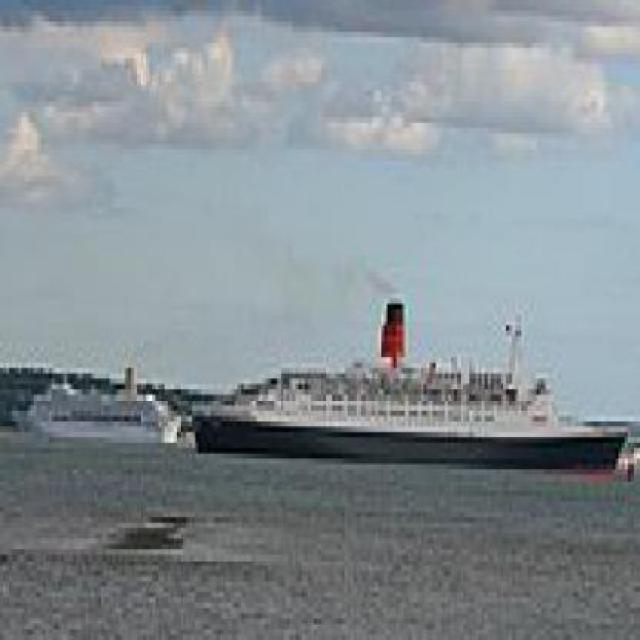cruise: (196, 321, 636, 487), (20, 316, 187, 460)
